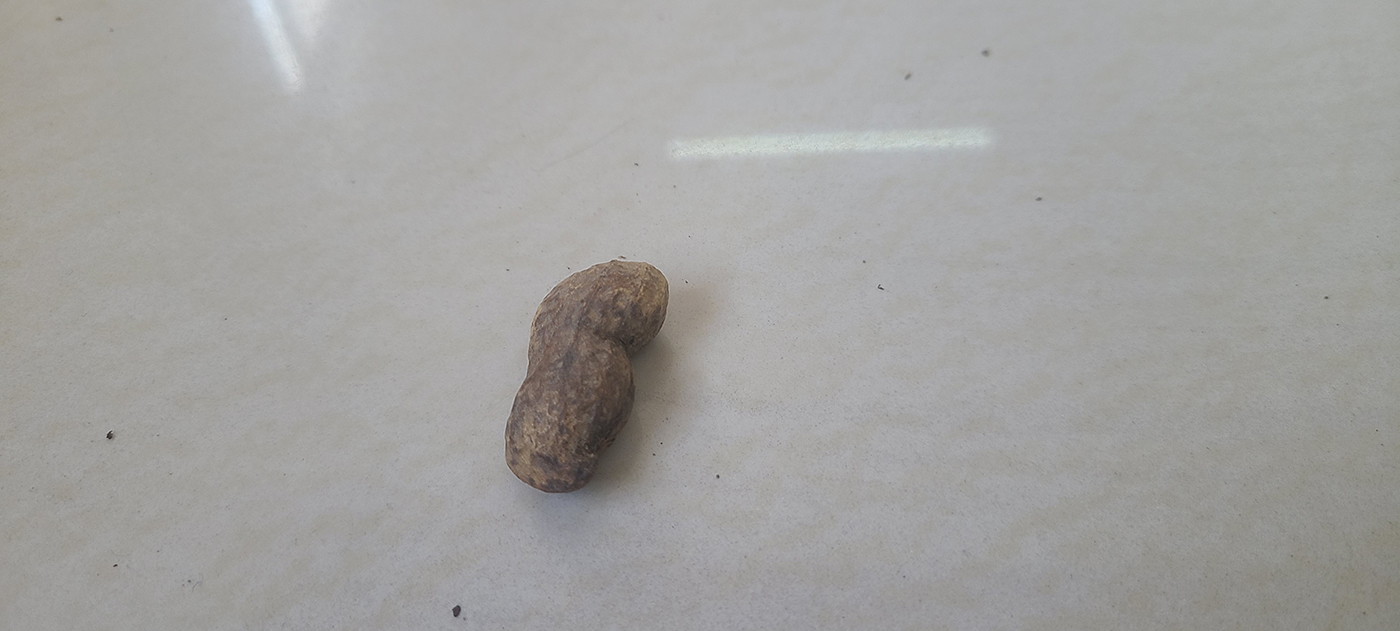l: (504, 257, 671, 493)
